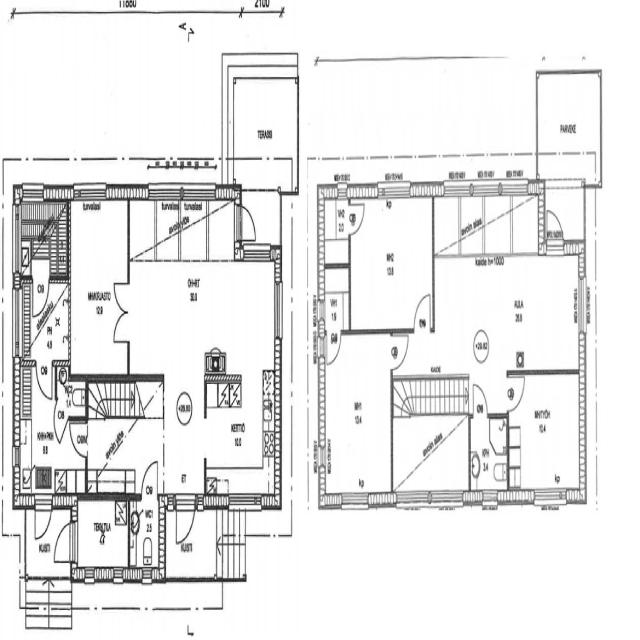door: (25, 272, 60, 326), (111, 275, 131, 346), (174, 493, 197, 547), (52, 516, 74, 568), (388, 326, 411, 371), (32, 495, 54, 542), (68, 414, 90, 459), (412, 288, 433, 332), (237, 200, 258, 242), (506, 372, 527, 412), (140, 456, 160, 497), (34, 360, 54, 401), (545, 205, 565, 245), (470, 379, 490, 418), (32, 274, 50, 316), (348, 198, 366, 238), (325, 330, 342, 366), (336, 174, 349, 198)
window: (428, 486, 465, 512), (338, 488, 372, 516), (272, 276, 285, 345), (532, 486, 567, 510), (226, 488, 261, 512), (576, 267, 588, 337), (242, 238, 274, 264), (500, 178, 531, 200), (378, 180, 412, 200), (470, 177, 503, 197), (442, 178, 473, 196), (77, 182, 106, 200), (480, 489, 500, 511), (0, 379, 6, 408)
zone: (126, 192, 282, 370), (86, 367, 275, 492), (432, 242, 579, 370), (321, 327, 392, 501), (350, 195, 433, 330), (69, 198, 129, 372), (13, 362, 86, 500), (508, 371, 583, 498), (391, 413, 469, 500), (71, 495, 130, 578), (15, 281, 72, 364), (17, 195, 70, 275), (469, 413, 509, 499), (128, 493, 162, 575), (546, 178, 585, 244), (320, 190, 350, 265), (319, 265, 352, 331), (128, 198, 157, 262), (28, 274, 59, 328)
